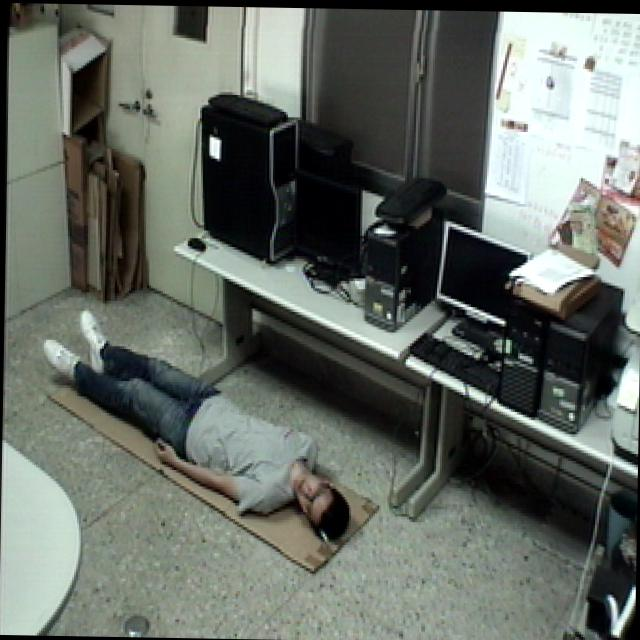lie: (36, 298, 352, 562)
